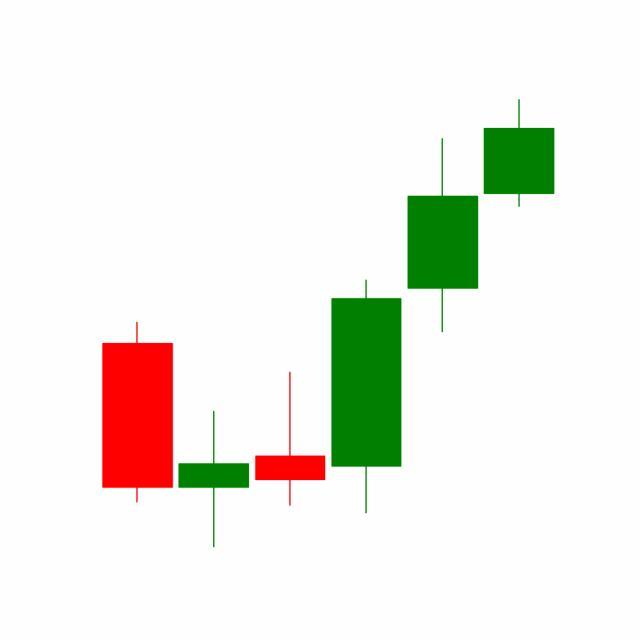Advance Block: (326, 100, 555, 520)
